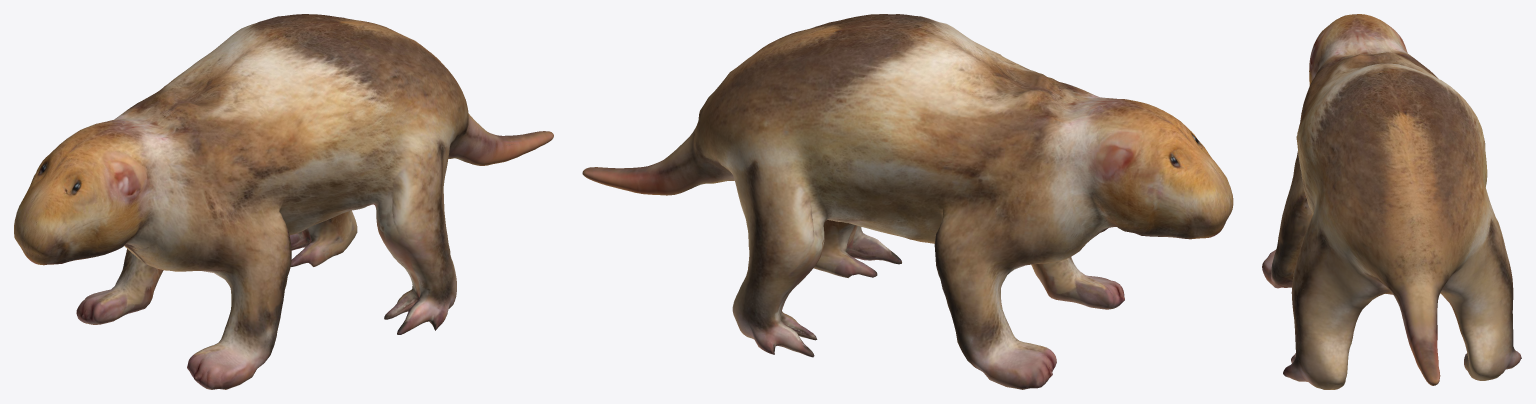
The picture shows the model from 3 angles, left to right: view 1: azimuth 30°, elevation 25°; view 2: azimuth 150°, elevation 25°; view 3: azimuth 270°, elevation 25°; orthographic projection. The views are drawn at different scales.
Parts seen in each view (by area): view 1: 14_Magallanodon; view 2: 14_Magallanodon; view 3: 14_Magallanodon.
Part boxes in pixels (x1=…): 14_Magallanodon: x1=14, y1=14, x2=553, y2=389; 14_Magallanodon: x1=582, y1=14, x2=1233, y2=389; 14_Magallanodon: x1=1262, y1=14, x2=1521, y2=389.
Size of the model in its own units: 1.27 by 0.5905 by 0.5328.
1 material, 1 textured.
